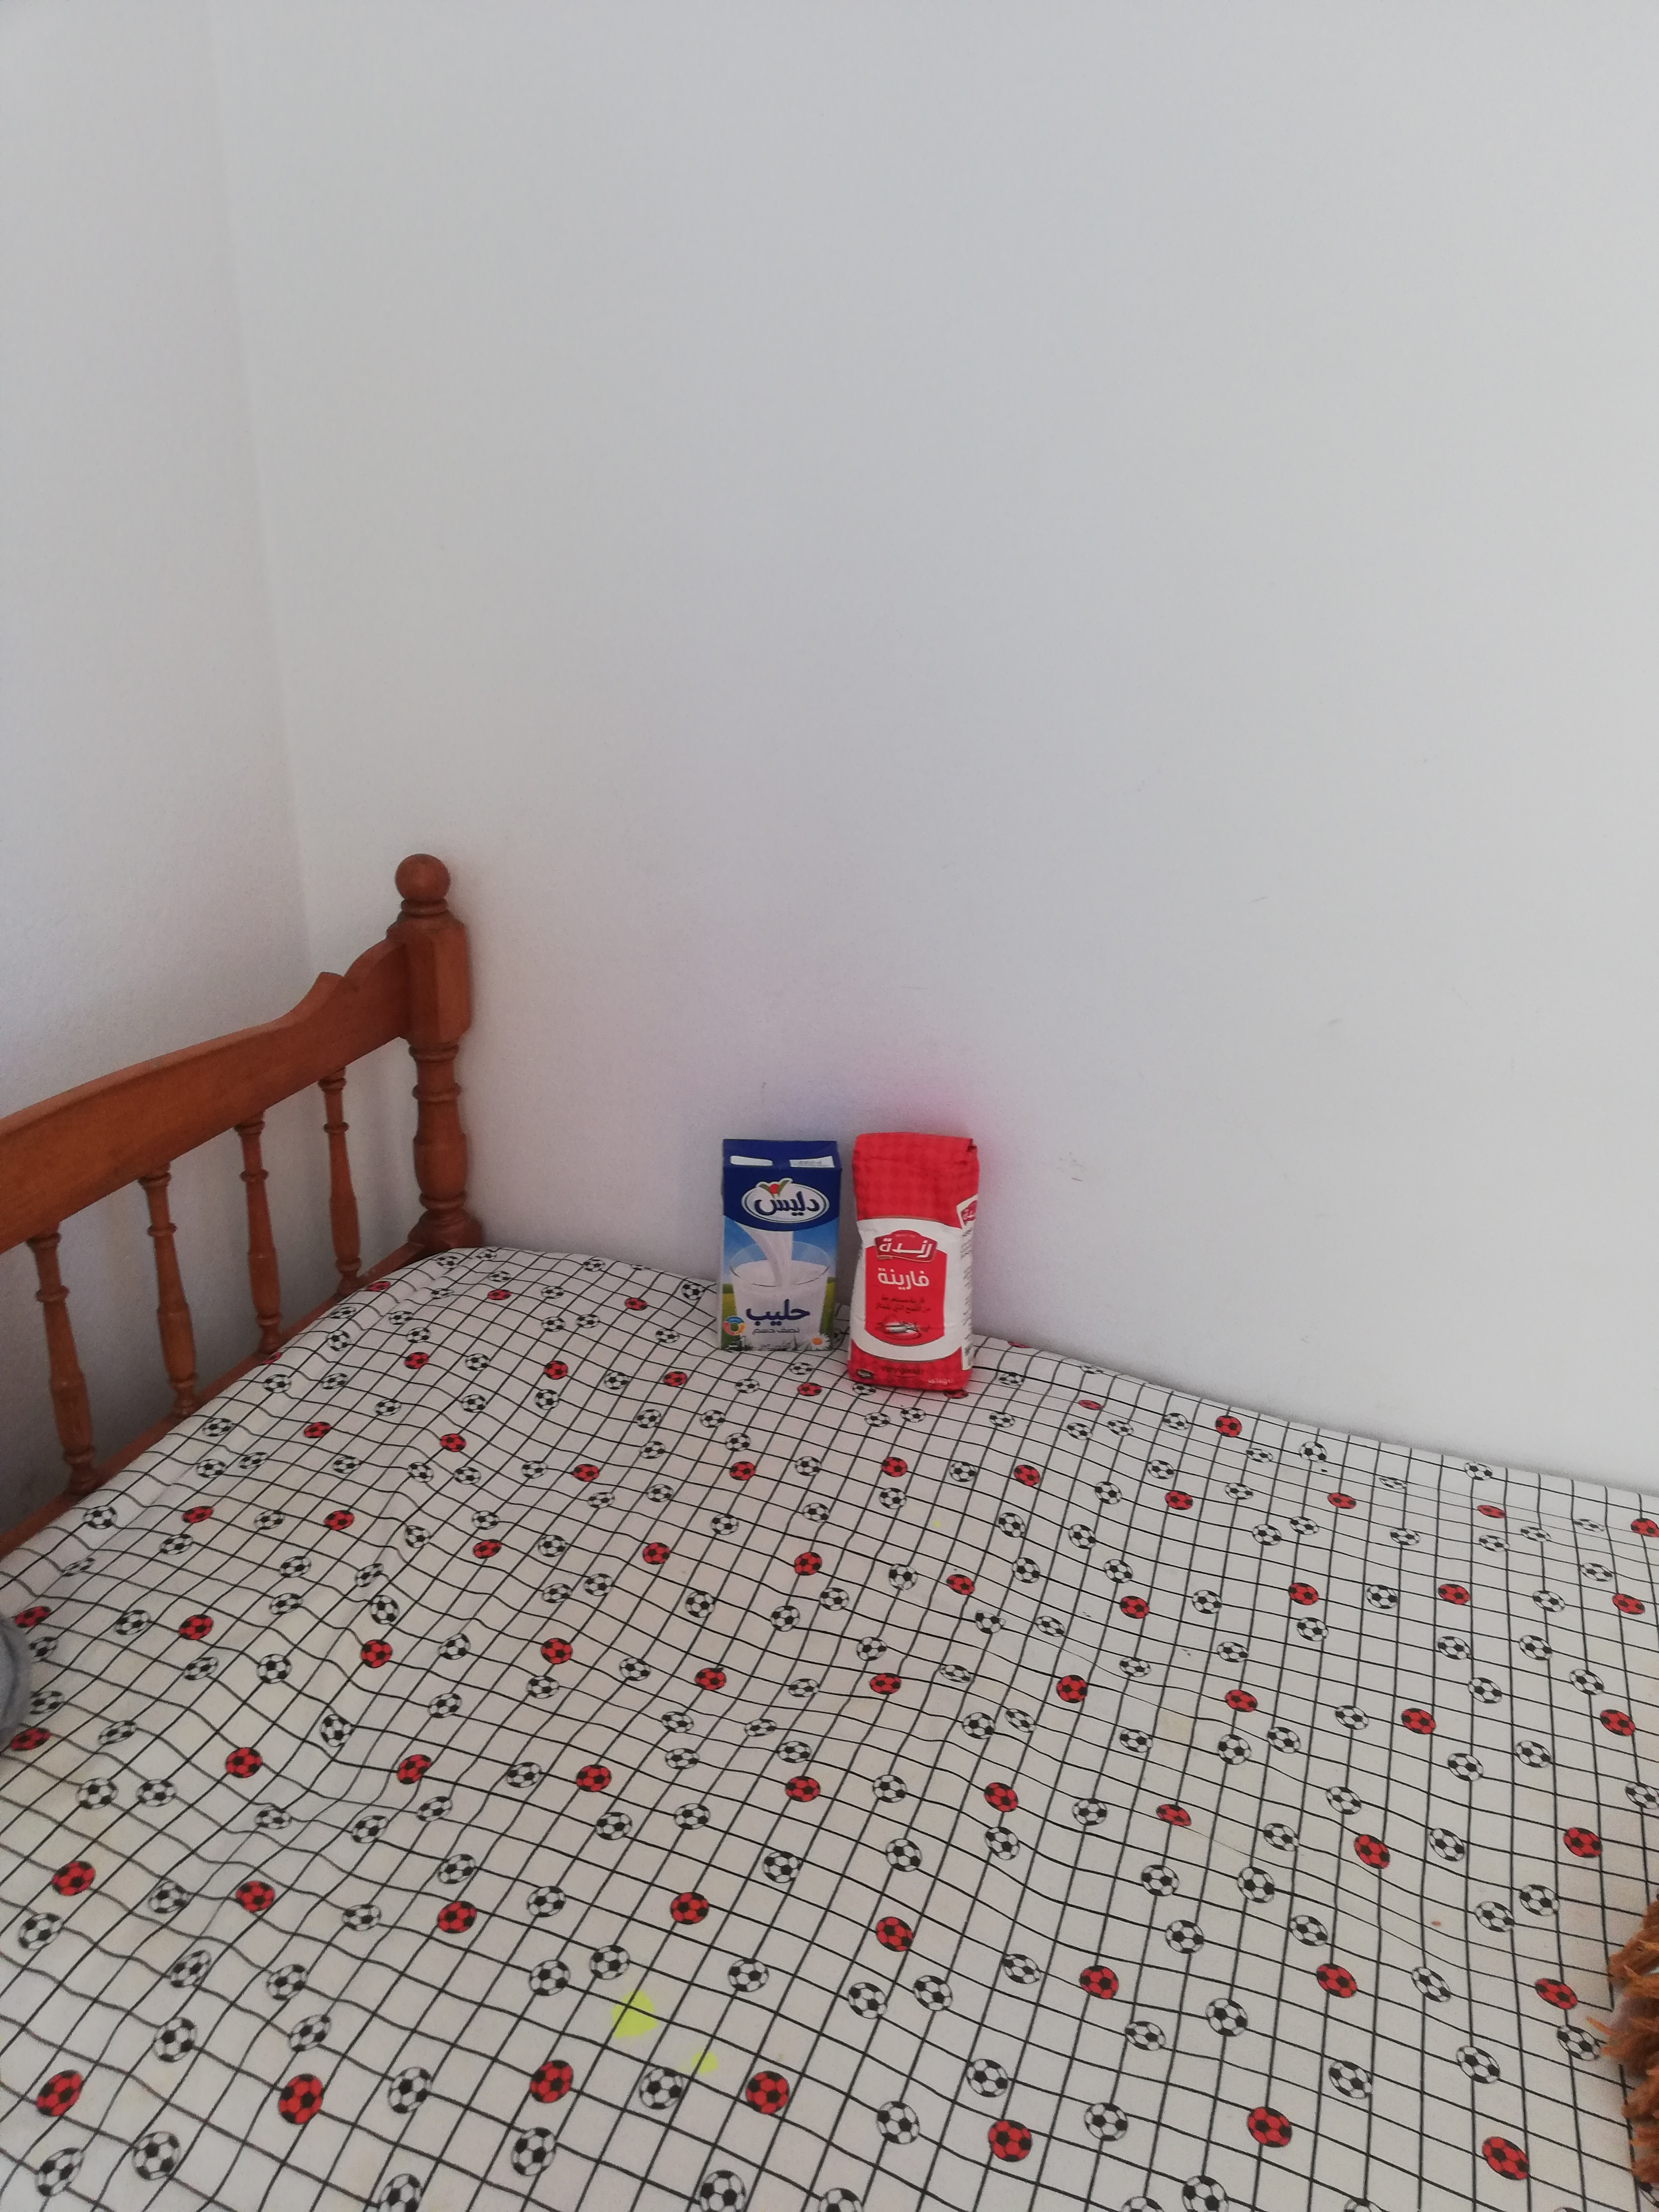Farine Randa: (843, 1137, 978, 1393)
Lait delice: (720, 1143, 840, 1353)
